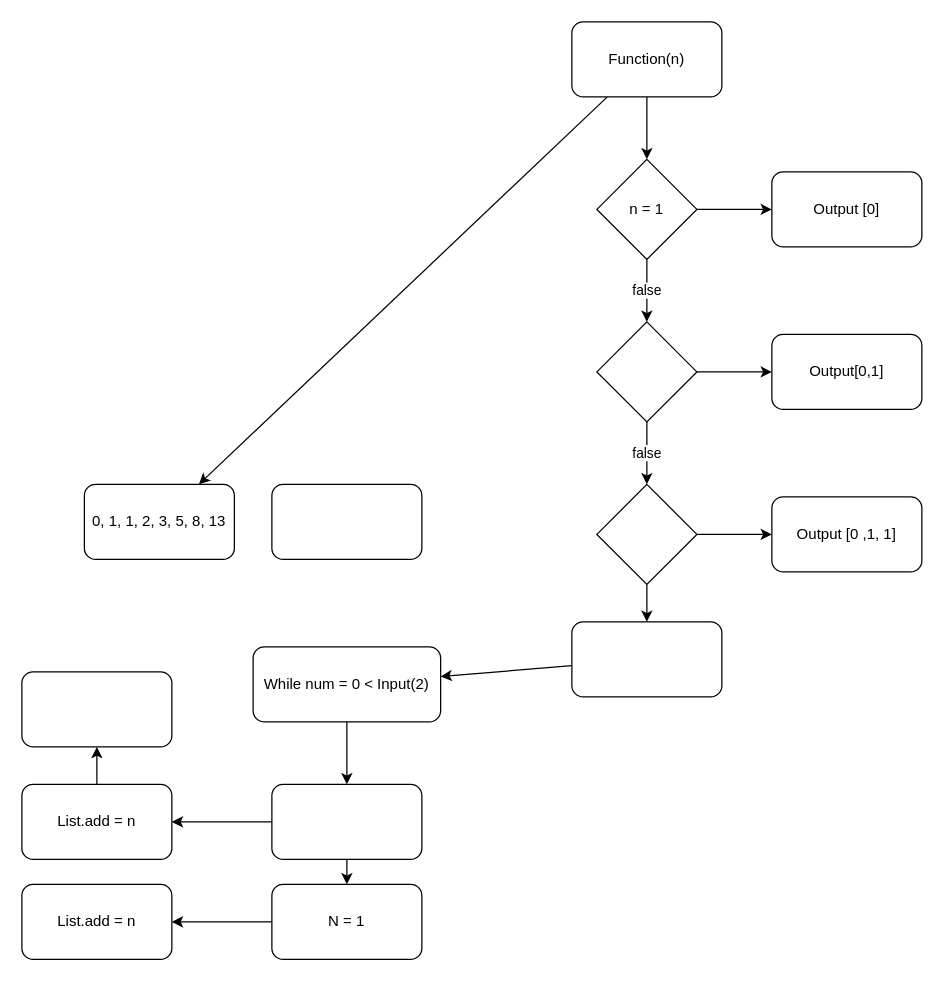
The diagram is 944 pixels wide and 981 high, and some of its shapes have lost their labels. The centre of each missing label's shape, as x and y in pixels:
"N = 0" belongs at pixel 346 821.
"n = 2" belongs at pixel 646 371.
"n = 3" belongs at pixel 646 533.
"Output: List [...]" belongs at pixel 346 521.
"Sum the last of the two values" belongs at pixel 646 659.
